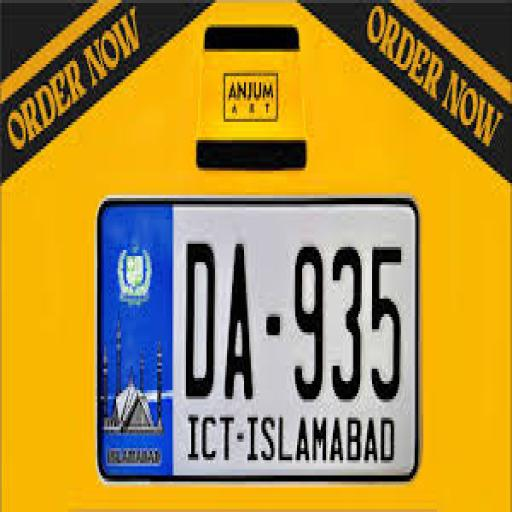3: (334, 244, 364, 407)
5: (367, 236, 403, 403)
9: (290, 239, 326, 401)
A: (220, 243, 253, 404)
D: (181, 239, 214, 403)
